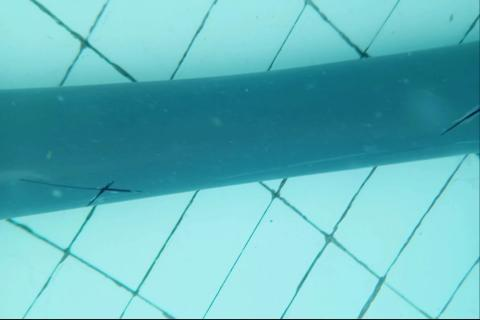keretakan: (20, 177, 141, 203), (440, 105, 480, 135)
